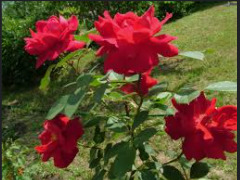RedRose: (90, 5, 182, 88), (160, 91, 238, 161), (19, 14, 85, 63), (36, 111, 85, 169)
